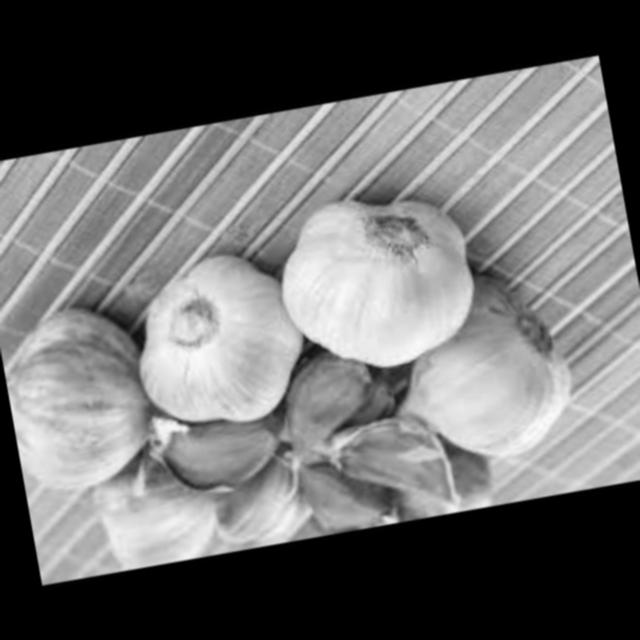toi: (264, 184, 498, 386), (109, 236, 322, 454), (382, 270, 581, 480), (0, 300, 173, 510), (322, 401, 468, 534), (142, 397, 298, 514), (80, 456, 228, 576), (262, 354, 391, 474), (214, 456, 364, 554)
